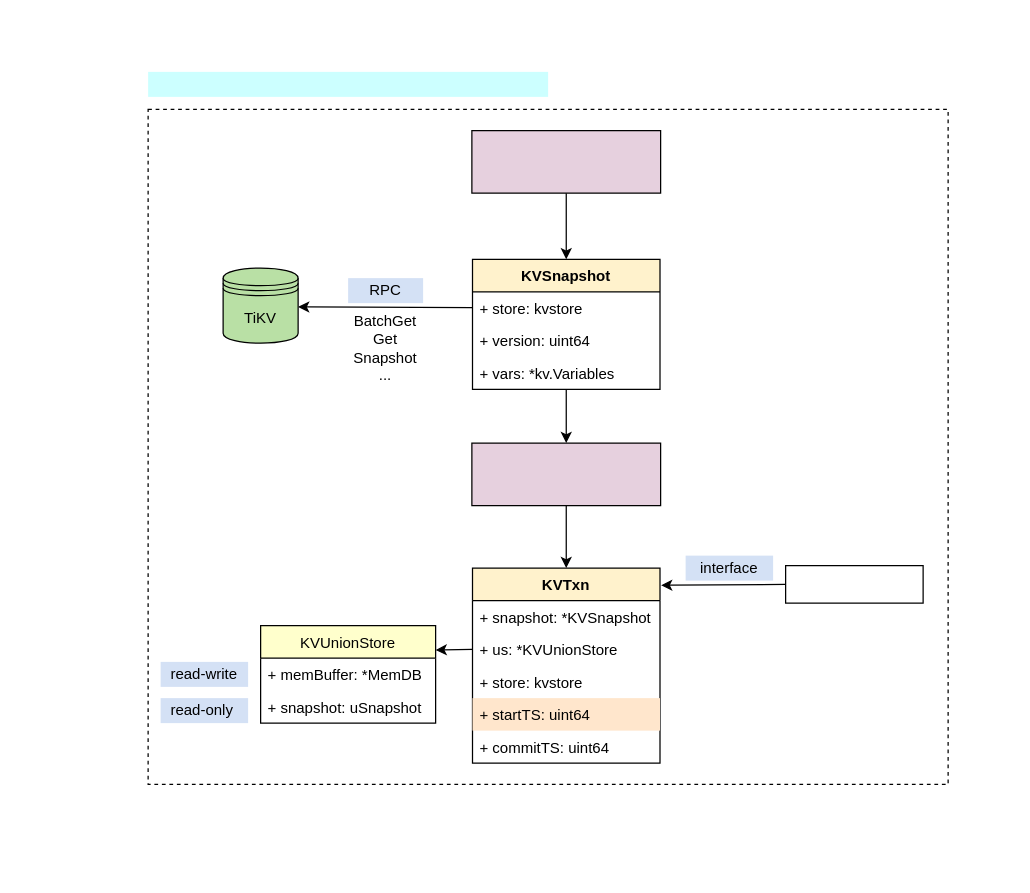
The diagram is 1030 pixels wide and 893 high, and some of its shapes have lost their labels. Each missing label, with the centre of its shape:
"func: NewTiKVSnapshot" belongs at point (566, 161).
"func: NewTiKVTxn" belongs at point (566, 474).
"kv.Transaction" belongs at point (853, 583).
"KVStore::Begin(opt... TxnOption) -> *transaction.KVTxn" belongs at point (348, 83).
